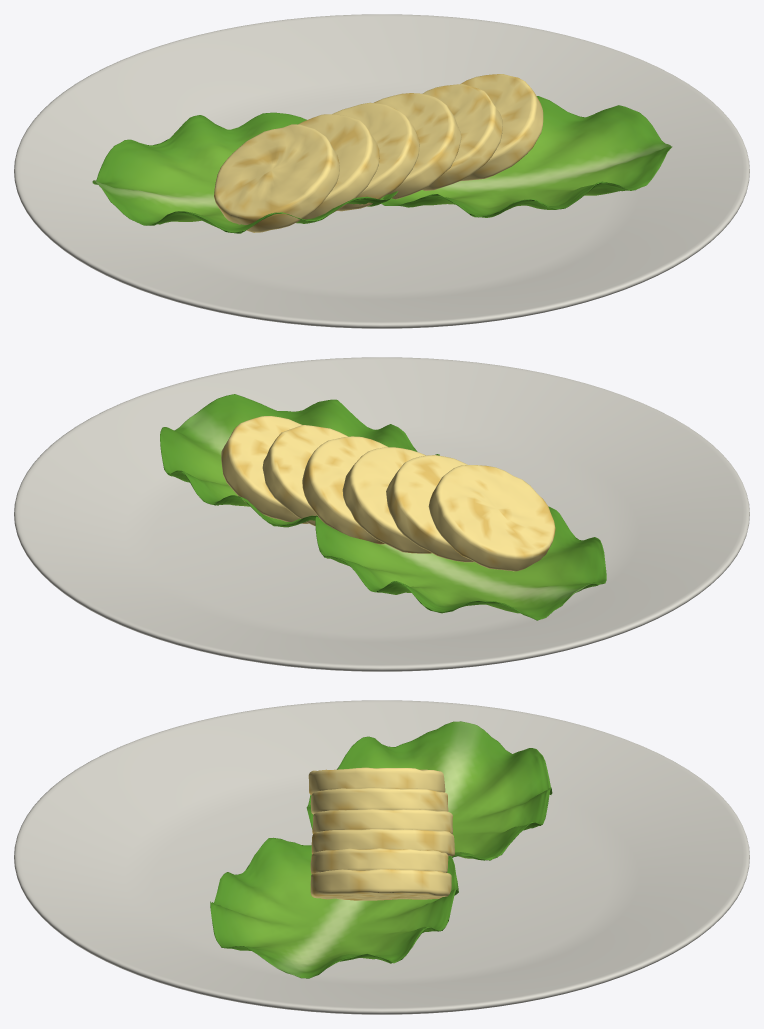
The model's file is paso-4.glb.
3 views of the same model, one above another, from view 1: azimuth 30°, elevation 25°; view 2: azimuth 150°, elevation 25°; view 3: azimuth 270°, elevation 25° (orthographic).
Visible parts, largest first — view 1: paso-4-0, paso-4-2, paso-4-1, paso-4-3, paso-4-6, paso-4-8, paso-4-7, paso-4-5, paso-4-4; view 2: paso-4-0, paso-4-1, paso-4-3, paso-4-2, paso-4-5, paso-4-4, paso-4-8, paso-4-6, paso-4-7; view 3: paso-4-0, paso-4-2, paso-4-1, paso-4-8, paso-4-6, paso-4-4, paso-4-7, paso-4-5, paso-4-3.
Part boxes in pixels (bbox=[...]): paso-4-0: bbox=[14, 14, 749, 328]; paso-4-2: bbox=[380, 96, 672, 217]; paso-4-1: bbox=[92, 112, 398, 233]; paso-4-3: bbox=[214, 124, 339, 232]; paso-4-6: bbox=[374, 93, 461, 199]; paso-4-8: bbox=[460, 74, 543, 181]; paso-4-7: bbox=[422, 84, 502, 190]; paso-4-5: bbox=[332, 102, 419, 211]; paso-4-4: bbox=[298, 114, 379, 219]; paso-4-0: bbox=[14, 357, 749, 671]; paso-4-1: bbox=[315, 506, 606, 620]; paso-4-3: bbox=[428, 465, 555, 571]; paso-4-2: bbox=[160, 394, 439, 527]; paso-4-5: bbox=[342, 447, 431, 553]; paso-4-4: bbox=[386, 455, 473, 562]; paso-4-8: bbox=[221, 416, 308, 523]; paso-4-6: bbox=[302, 436, 387, 544]; paso-4-7: bbox=[262, 425, 347, 526]; paso-4-0: bbox=[14, 700, 749, 1014]; paso-4-2: bbox=[210, 837, 458, 978]; paso-4-1: bbox=[306, 721, 552, 860]; paso-4-8: bbox=[310, 869, 451, 900]; paso-4-6: bbox=[311, 829, 454, 856]; paso-4-4: bbox=[310, 787, 448, 814]; paso-4-7: bbox=[310, 848, 448, 873]; paso-4-5: bbox=[312, 809, 452, 833]; paso-4-3: bbox=[308, 767, 445, 795].
Bounding box in the file's own units: 0.31 × 0.0439 × 0.31.
